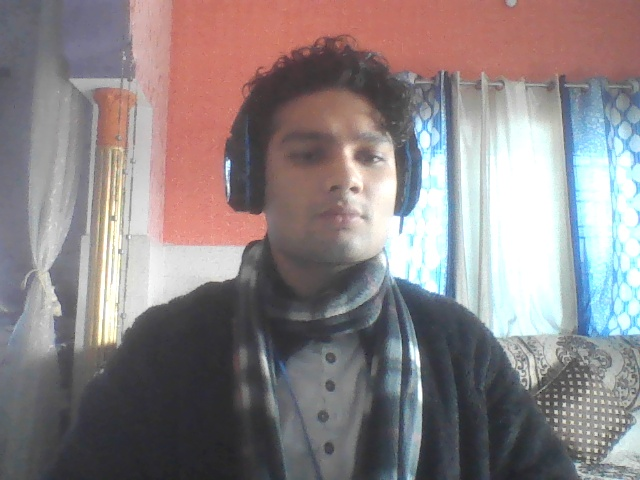real: (248, 52, 407, 278)
